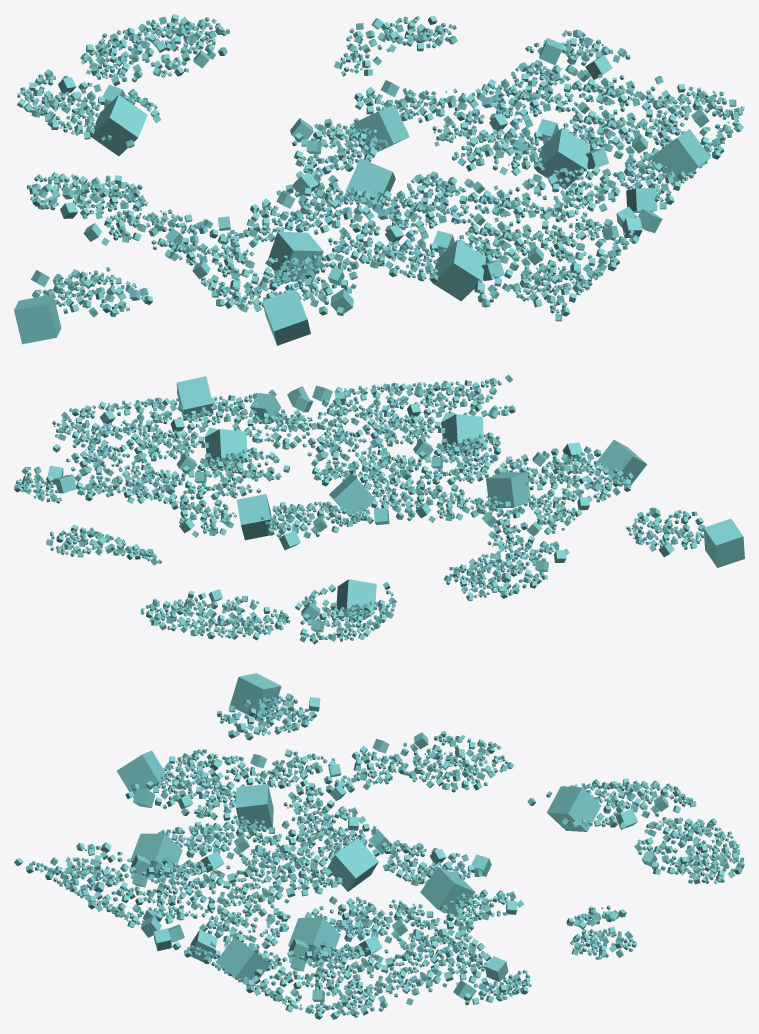
File: Glass.Shards.Wall2.fbx
3 renders of one model, top to bottom at view 1: azimuth 30°, elevation 25°; view 2: azimuth 150°, elevation 25°; view 3: azimuth 270°, elevation 25°, orthographic. The views are drawn at different scales.
Visible parts, largest first — view 1: Cube; view 2: Cube; view 3: Cube.
Boxes of the visible parts, box(x1,y1,x2,y2) form: Cube: box(14, 14, 744, 345); Cube: box(14, 374, 744, 644); Cube: box(14, 673, 744, 1019).
Size of the model in its own units: 532 by 42.15 by 491.
